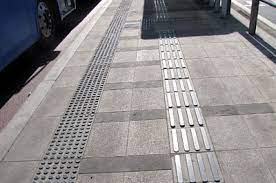guide_blocks: (154, 28, 222, 183), (43, 115, 92, 180), (69, 65, 108, 112), (90, 33, 119, 64), (105, 1, 131, 32), (156, 2, 170, 21)
